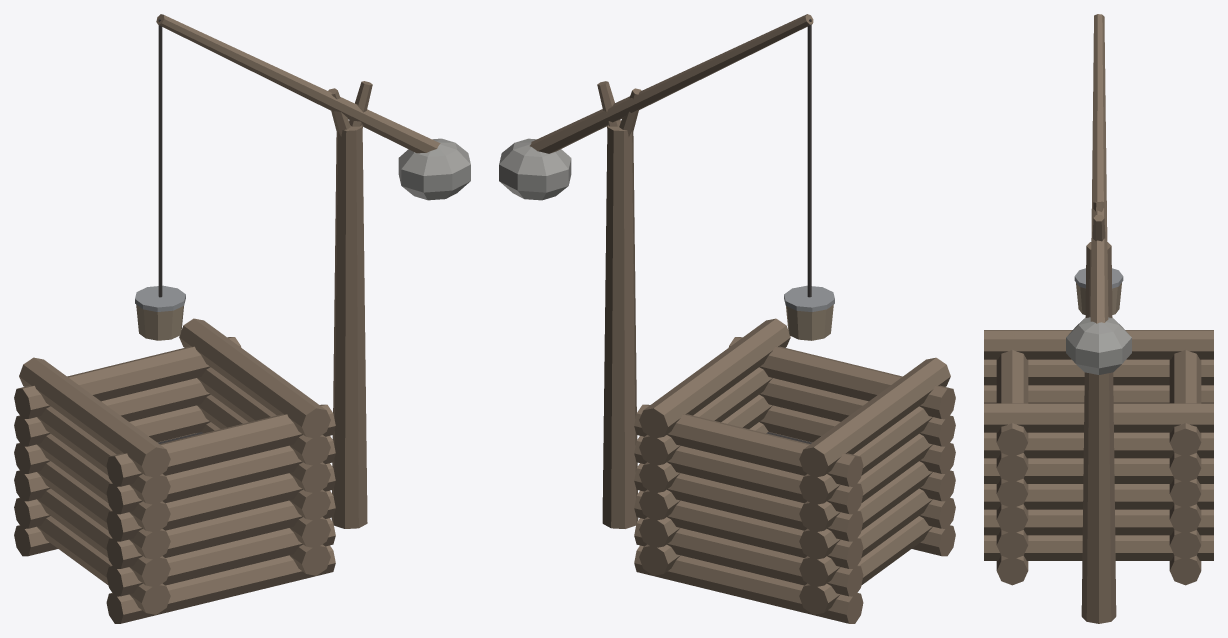
The model's file is Well.fbx.
3 views of the same model, side by side, from view 1: azimuth 30°, elevation 25°; view 2: azimuth 150°, elevation 25°; view 3: azimuth 270°, elevation 25° (orthographic). The views are drawn at different scales.
Parts seen in each view (by area): view 1: Well; view 2: Well; view 3: Well.
Part boxes in pixels (left/top/right/bottom): Well: left=14, top=14, right=470, bottom=623; Well: left=499, top=14, right=955, bottom=623; Well: left=984, top=14, right=1213, bottom=623.
Bounding box in the file's own units: 275 × 363 × 146.
